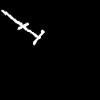double_crochet: (2, 10, 43, 44)
